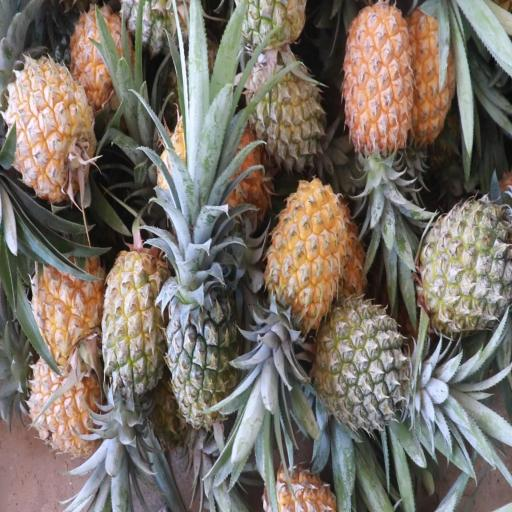------------------------------: (106, 248, 170, 420)
Pineapple - v8 v1: (343, 0, 414, 234), (268, 173, 339, 402), (5, 70, 104, 204), (27, 231, 109, 364), (74, 8, 143, 114), (408, 2, 457, 150), (30, 366, 107, 455)
